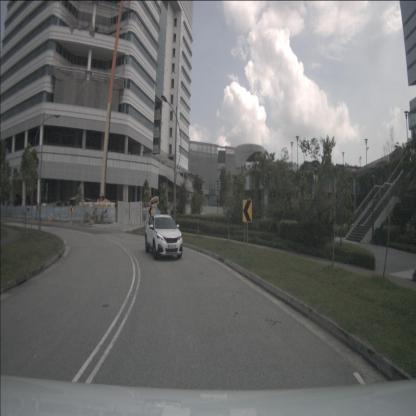vehicle-car: (145, 213, 183, 260)
